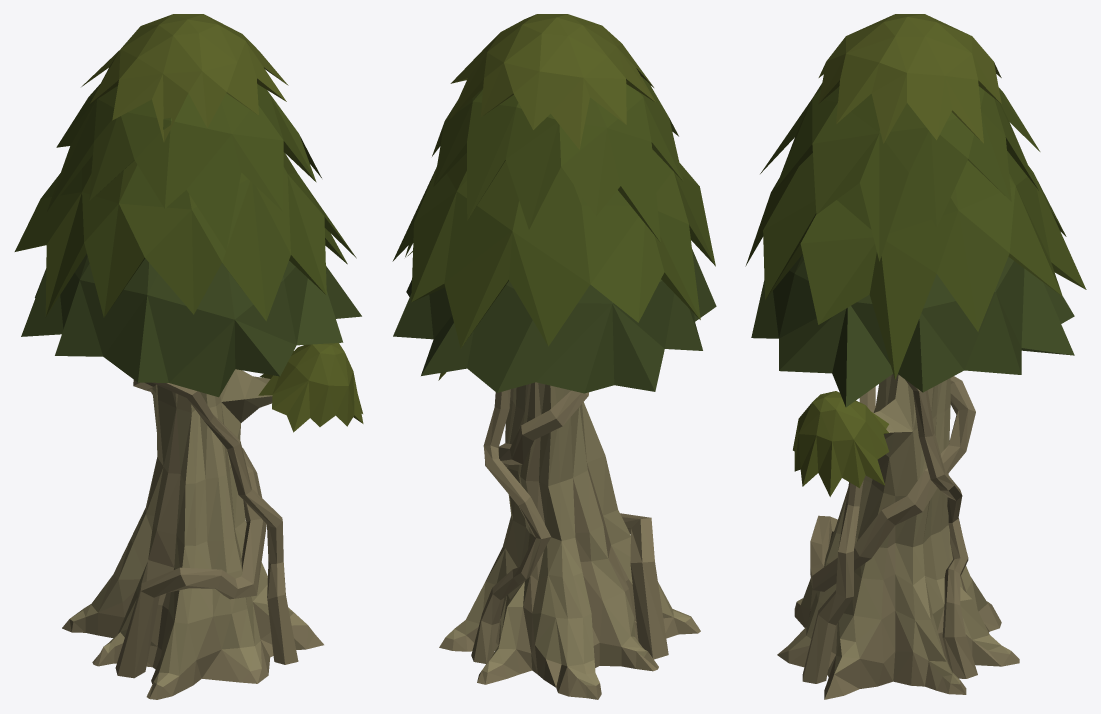
The model's file is celastrus.gltf.
3 renders of one model, left to right at view 1: azimuth 30°, elevation 25°; view 2: azimuth 150°, elevation 25°; view 3: azimuth 270°, elevation 25°, orthographic. The views are drawn at different scales.
Bounding box in the file's own units: 178 × 355 × 173.
1 material, 1 textured.
